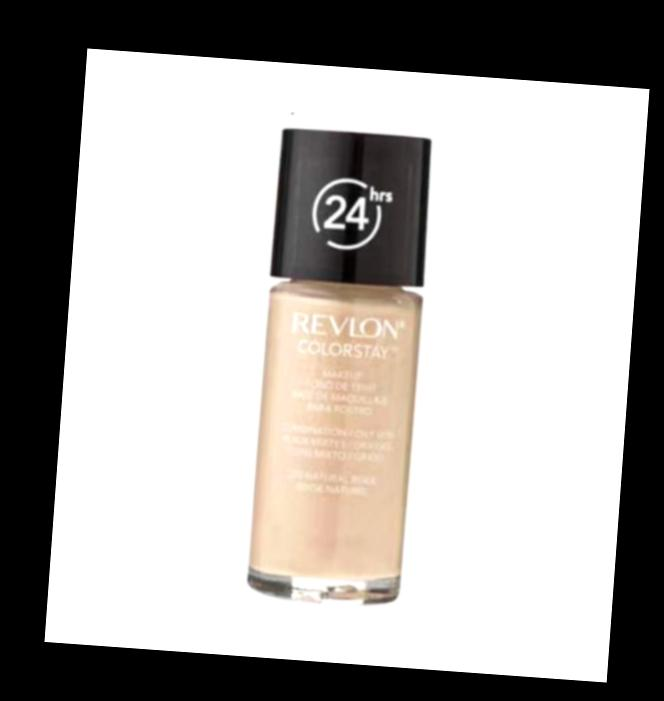cosmetic: (244, 128, 432, 603)
